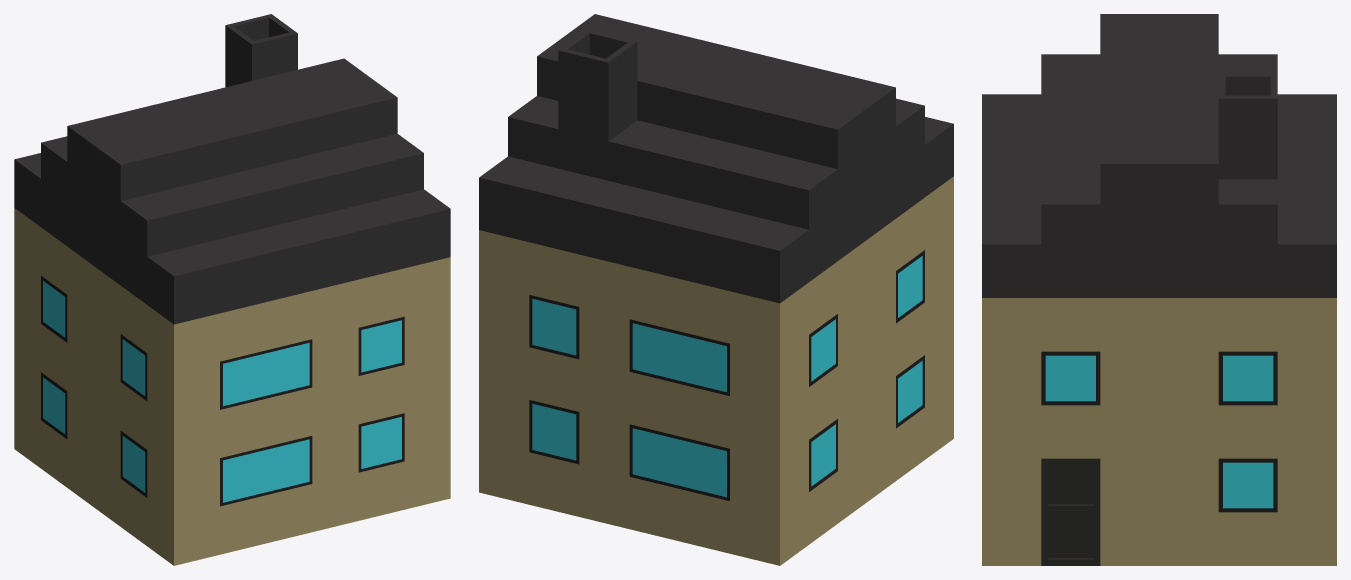
File: smallHomeTemp.fbx
The picture shows the model from 3 angles, left to right: view 1: azimuth 30°, elevation 25°; view 2: azimuth 150°, elevation 25°; view 3: azimuth 270°, elevation 25°; orthographic projection. The views are drawn at different scales.
Visible parts, largest first — view 1: BaseHomeTemp; view 2: BaseHomeTemp; view 3: BaseHomeTemp.
Part boxes in pixels (box(x1,y1,x2,y2)): BaseHomeTemp: box(14, 14, 450, 565); BaseHomeTemp: box(479, 14, 953, 565); BaseHomeTemp: box(982, 14, 1336, 565).
Bounding box in the file's own units: 200 × 275 × 200.
